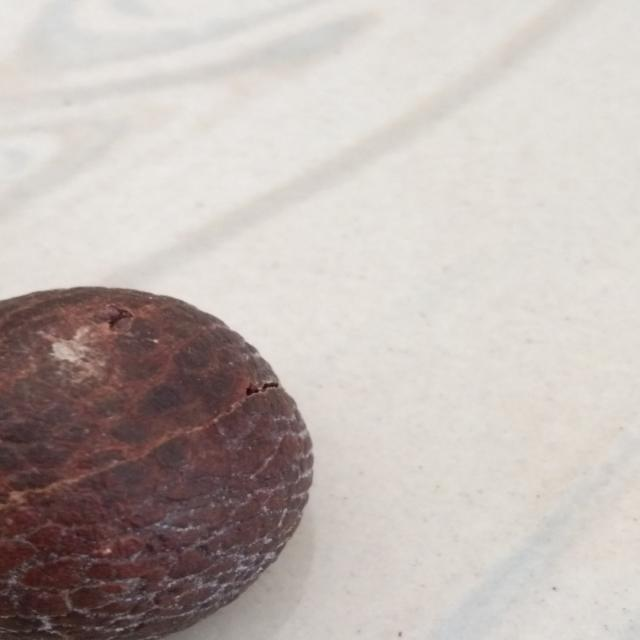karigot: (0, 287, 329, 640)
